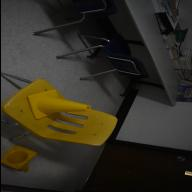cone: (25, 89, 90, 120), (0, 145, 38, 173)
